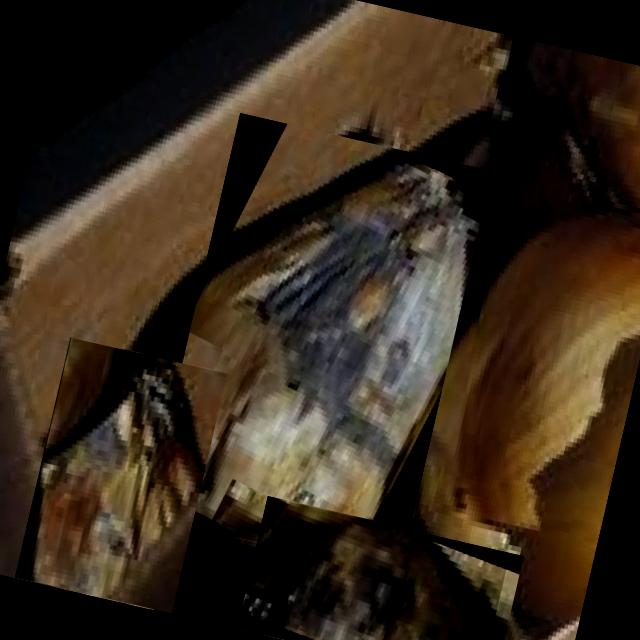rotten: (163, 166, 474, 534), (32, 355, 203, 598), (248, 520, 471, 640)
